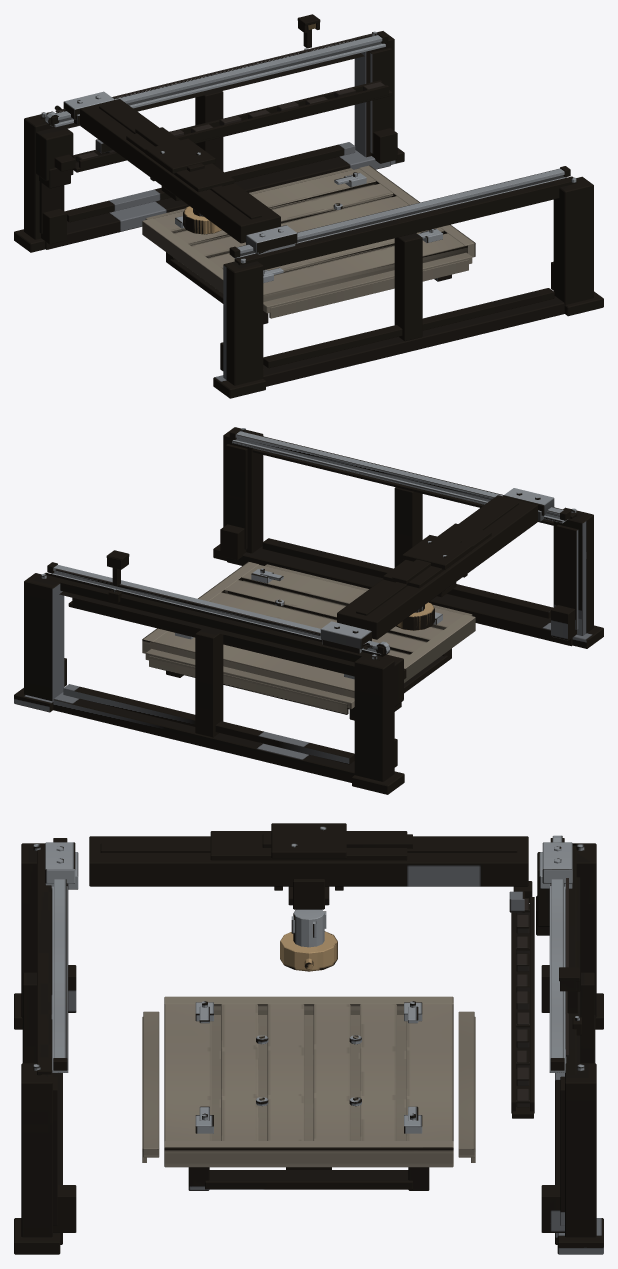
File: fabricator_lod0.glb
3 renders of one model, top to bottom at view 1: azimuth 30°, elevation 25°; view 2: azimuth 150°, elevation 25°; view 3: azimuth 270°, elevation 25°, orthographic. The views are drawn at different scales.
Visible parts, largest first — view 1: LOD0_fabricator, LOD0_Gantry; view 2: LOD0_fabricator, LOD0_Gantry, LOD0_Lamp; view 3: LOD0_fabricator, LOD0_Gantry, LOD0_Lamp.
Part boxes in pixels (box(x1,y1,x2,y2)): LOD0_fabricator: box(14, 31, 603, 398); LOD0_Gantry: box(63, 91, 297, 254); LOD0_fabricator: box(14, 427, 603, 794); LOD0_Gantry: box(320, 488, 554, 653); LOD0_Lamp: box(106, 550, 129, 602); LOD0_fabricator: box(14, 835, 603, 1254); LOD0_Gantry: box(45, 823, 572, 971); LOD0_Lamp: box(559, 967, 581, 1035).
Bounding box in the file's own units: 2.04 × 0.846 × 2.04.
1 material, 1 textured.
